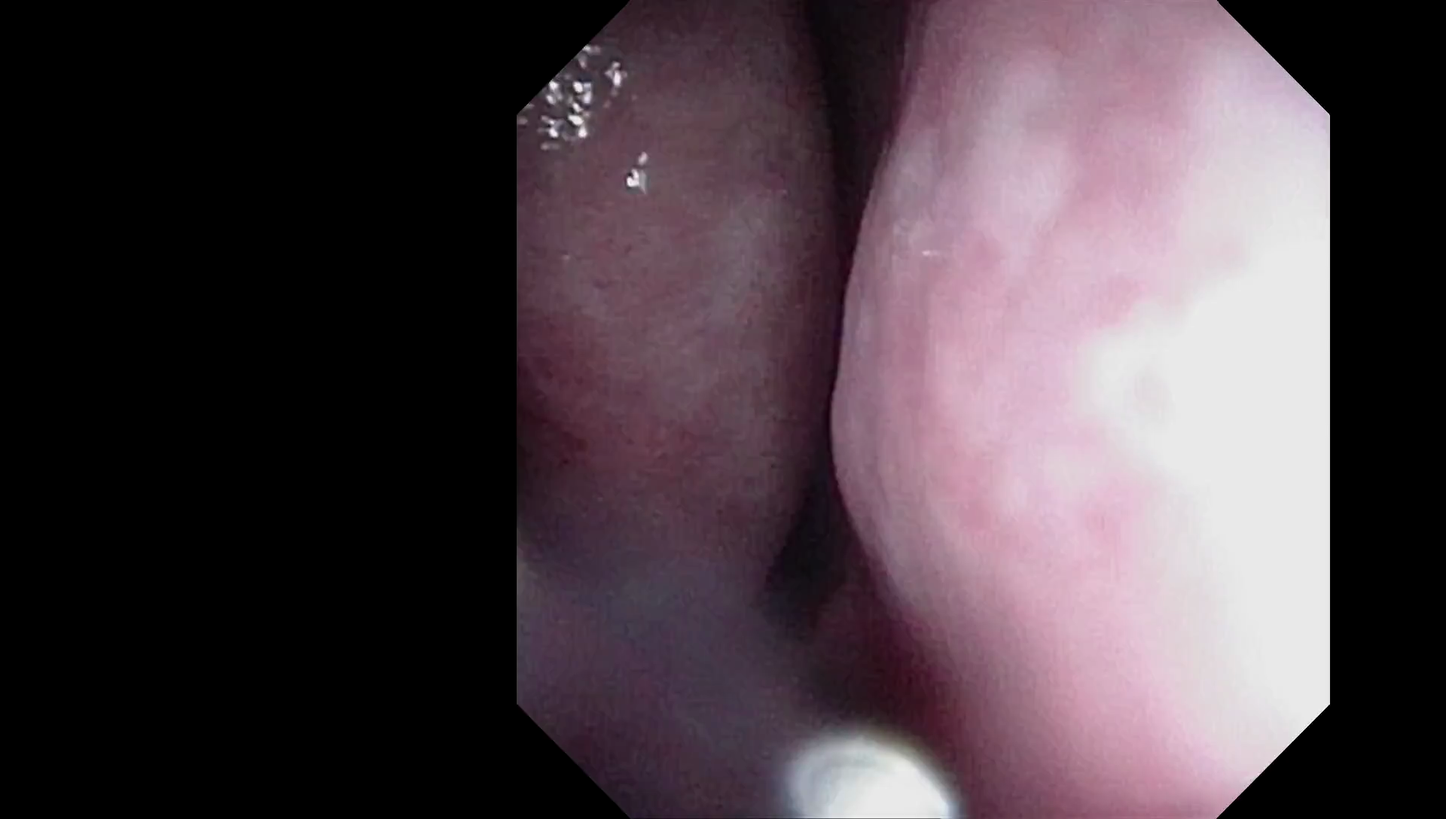close_wall: (971, 11, 1326, 805)
next: (719, 346, 900, 651), (769, 0, 941, 269)
